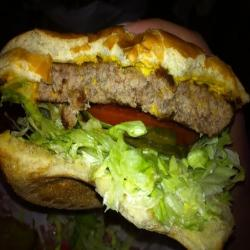burger: (1, 19, 242, 219)
